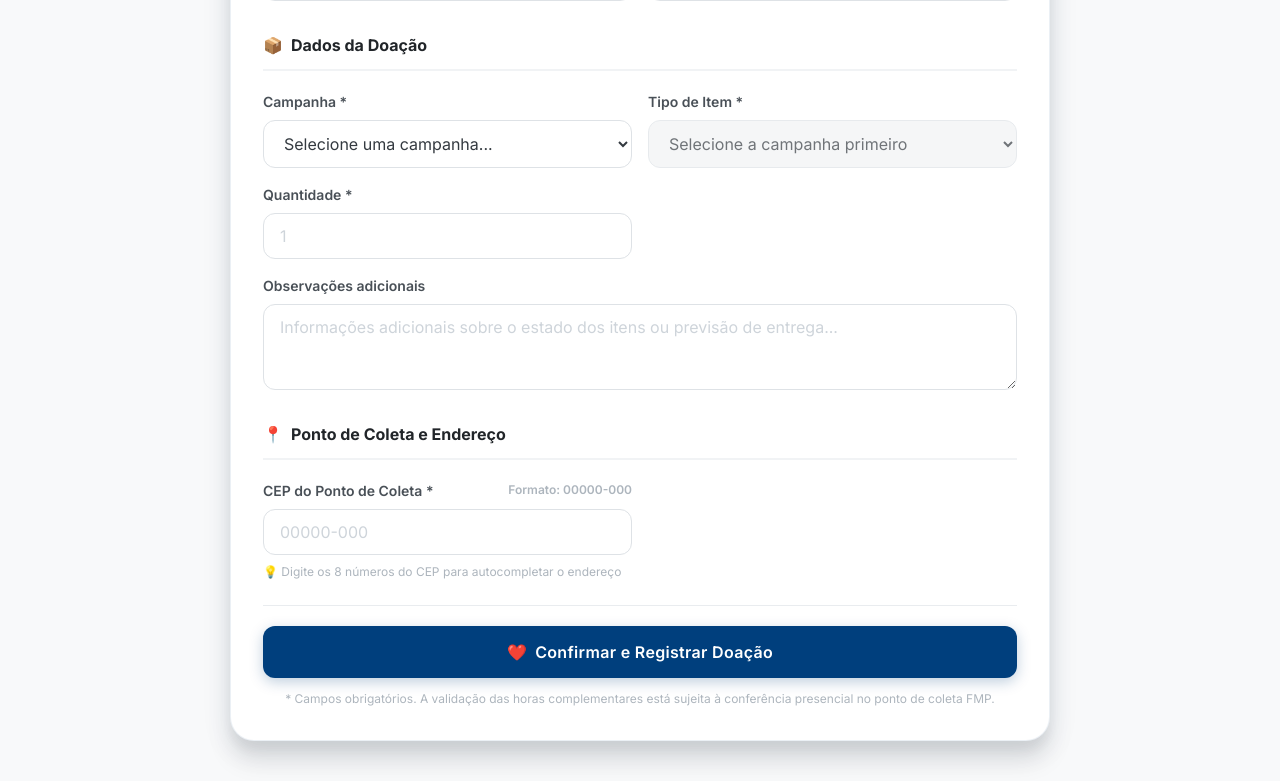
Test: DonationForm — Preenchimento Automático via CEP (ViaCEP) › deve preencher automaticamente logradouro, bairro e cidade ao digitar um CEP válido de 8 dígitos
The width and height of the screenshot is (1280, 781).
(page scrolled)
Expected: the field labelled "logradouro" is not shown
// Simula a digitação do CEP completo
Type "88130000" into the field labelled "CEP do Ponto de Coleta * Formato: 00000-000" at [448, 532], box [263, 508, 632, 554]
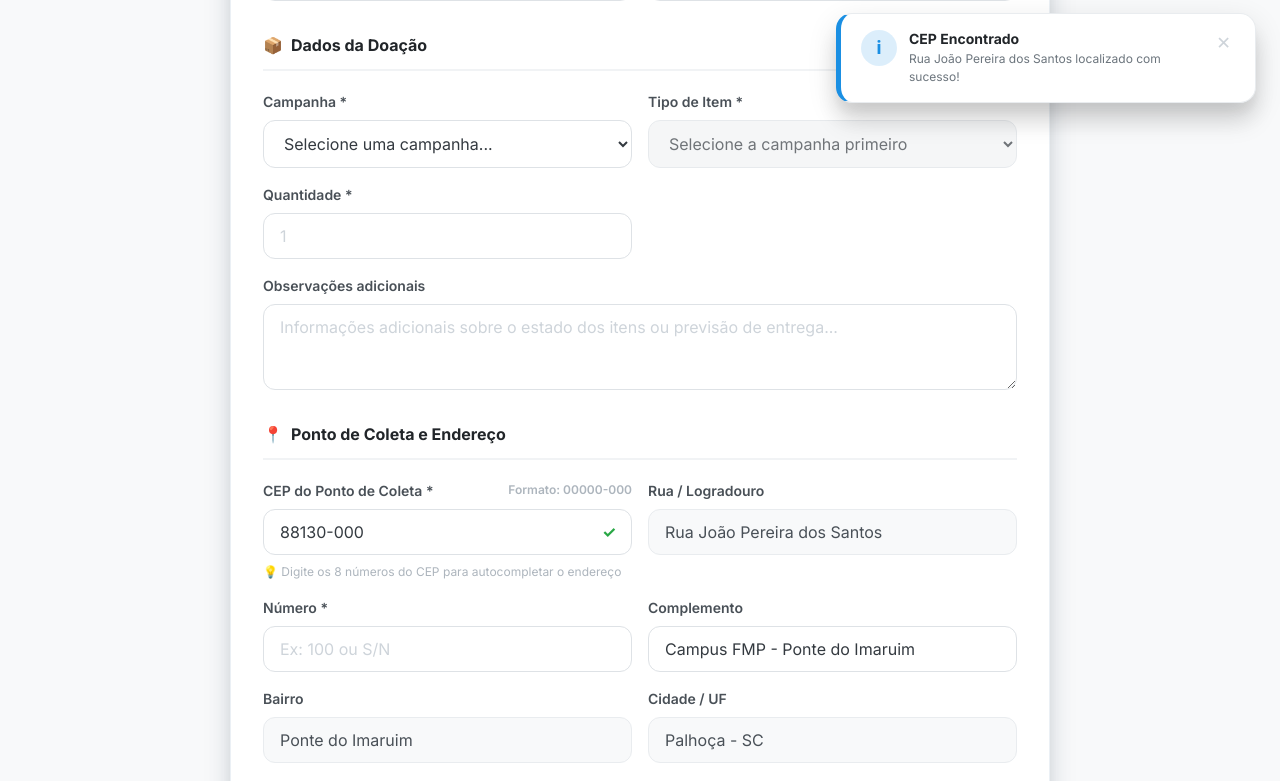
Now the field labelled "Rua / Logradouro" holds "Rua João Pereira dos Santos", box [648, 508, 1017, 554]
Now the field labelled "Bairro" holds "Ponte do Imaruim", box [263, 716, 632, 762]
Now the field labelled "Cidade / UF" holds "Palhoça - SC", box [648, 716, 1017, 762]
